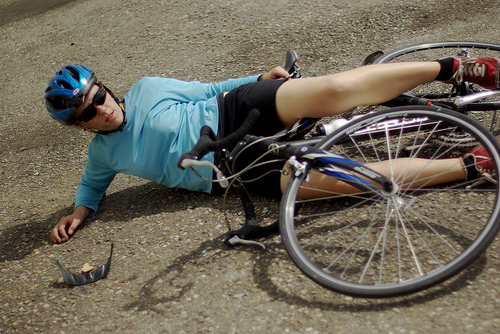helmet: (38, 64, 100, 114)
